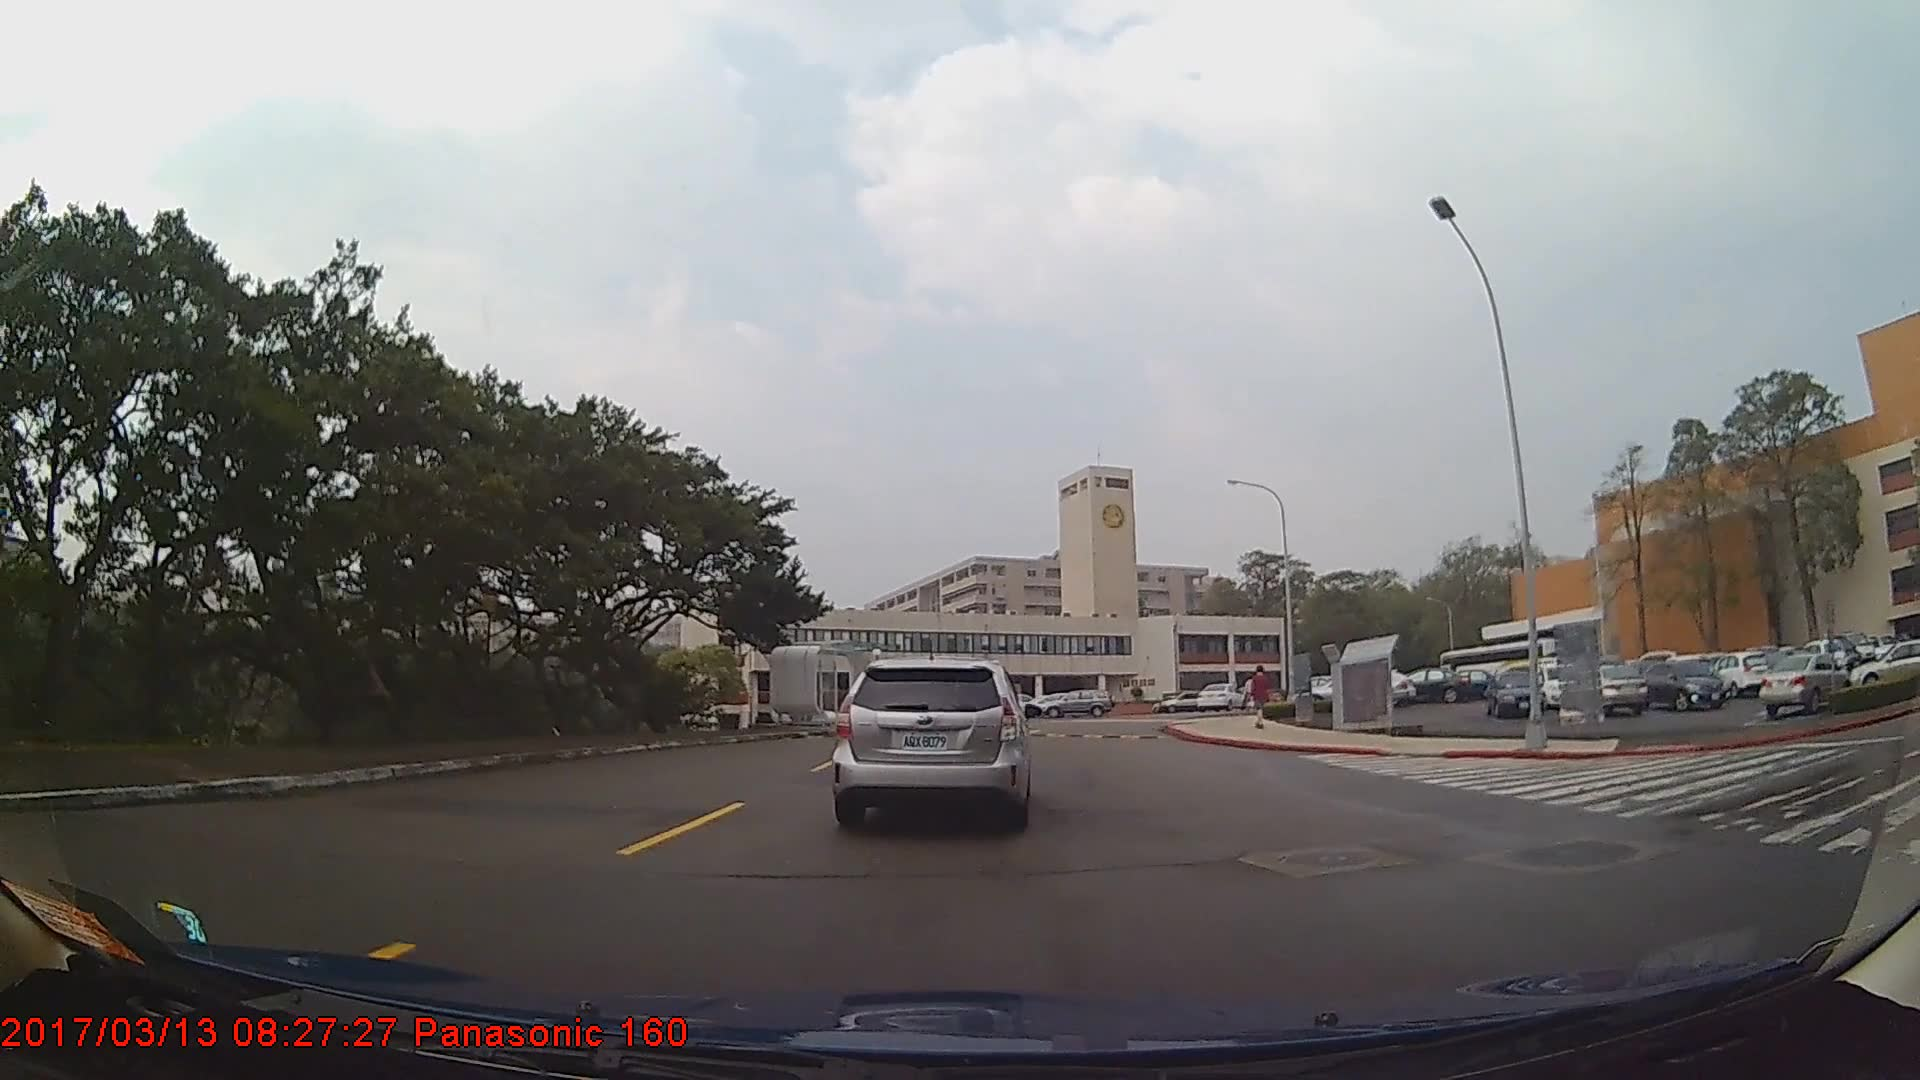pedestrian: (1249, 666, 1272, 730)
vehicle: (835, 653, 1029, 829), (1759, 654, 1850, 719), (1638, 659, 1724, 712), (1849, 644, 1920, 692), (1588, 663, 1647, 719), (1707, 651, 1771, 701), (1486, 669, 1548, 720), (1395, 668, 1470, 706), (1034, 686, 1112, 717), (1195, 681, 1248, 711), (1155, 688, 1208, 713)
